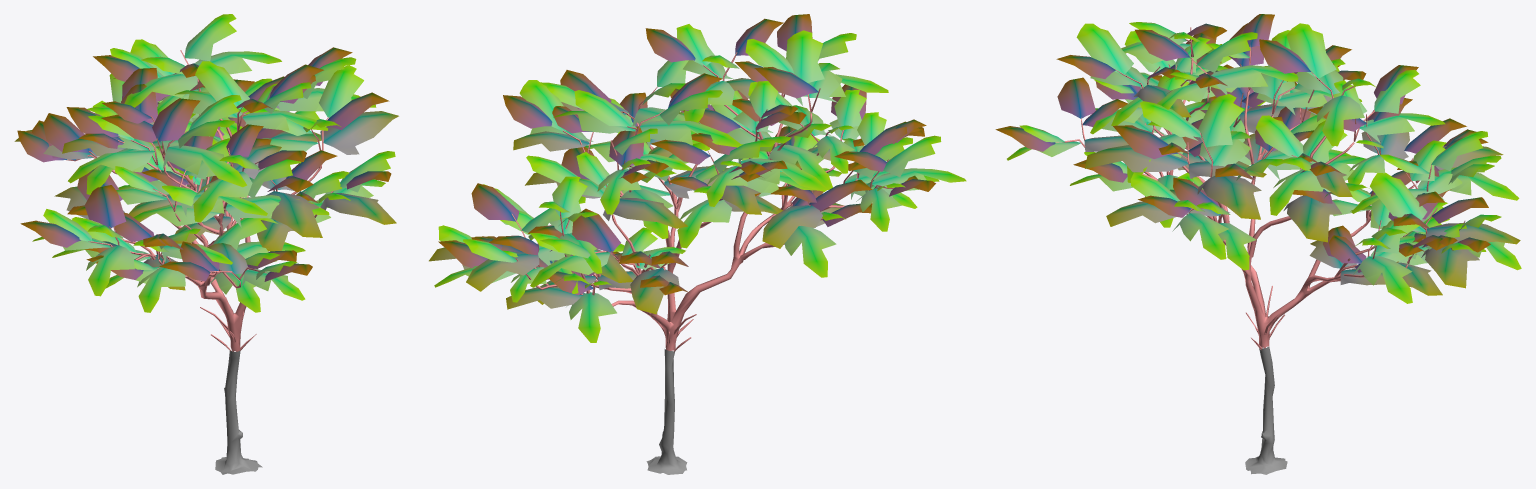
Rendered from SM_teak02.gltf.
The picture shows the model from 3 angles, left to right: view 1: azimuth 30°, elevation 25°; view 2: azimuth 150°, elevation 25°; view 3: azimuth 270°, elevation 25°; orthographic projection.
Visible parts, largest first — view 1: SM_teak02; view 2: SM_teak02; view 3: SM_teak02.
Boxes of the visible parts, x1,y1,x2,y2 form: SM_teak02: [14, 14, 398, 474]; SM_teak02: [429, 14, 966, 474]; SM_teak02: [995, 14, 1521, 474].
Size of the model in its own units: 13.25 by 13.61 by 15.6.
